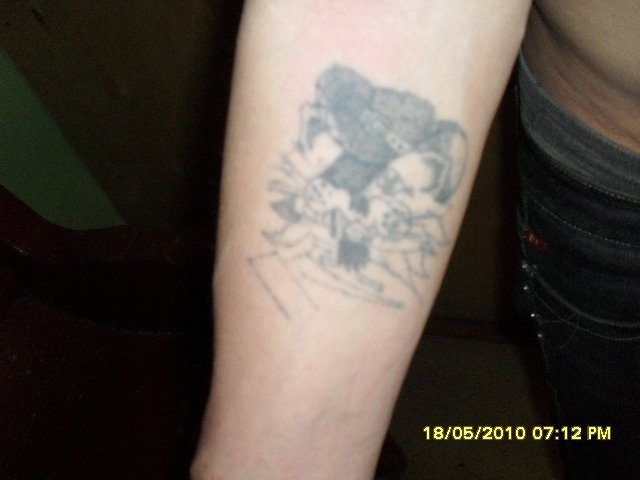tatu8_kot: (255, 59, 473, 325)
